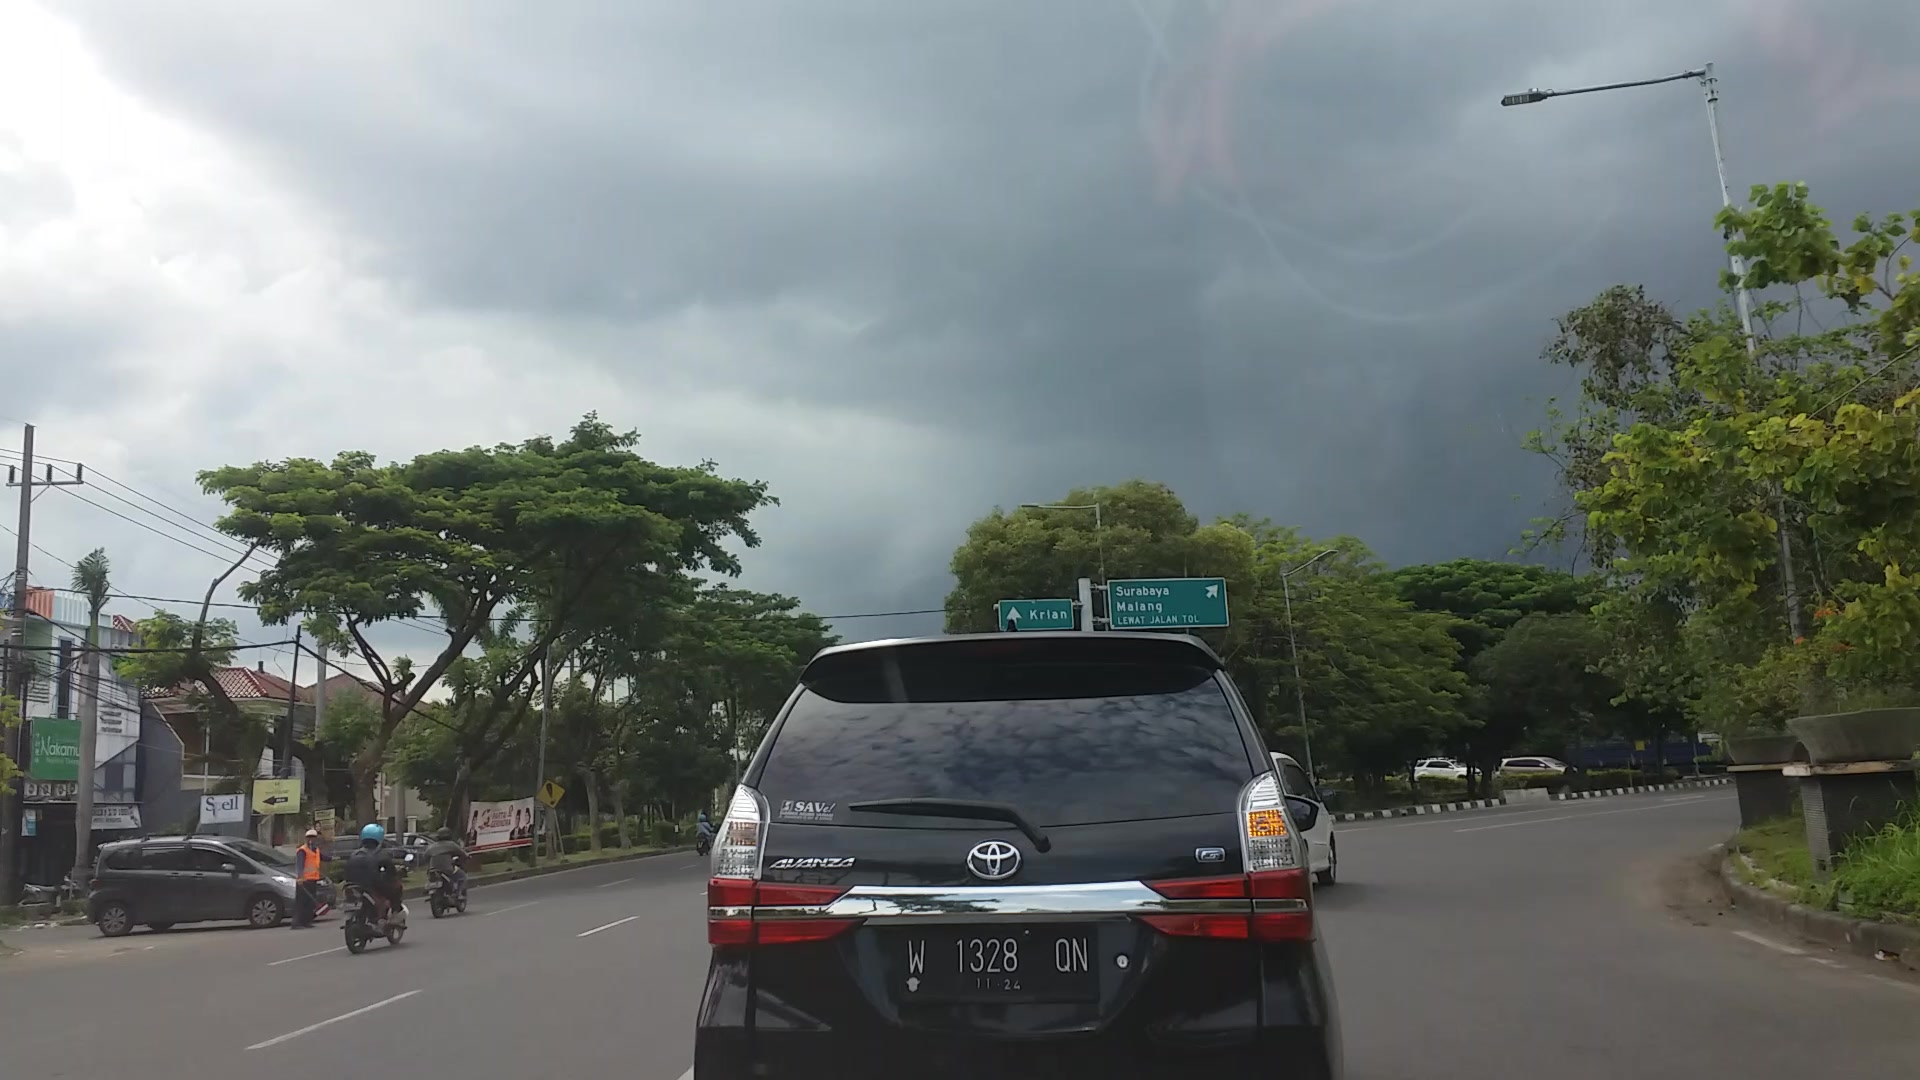plate_positive: (901, 926, 1095, 996)
